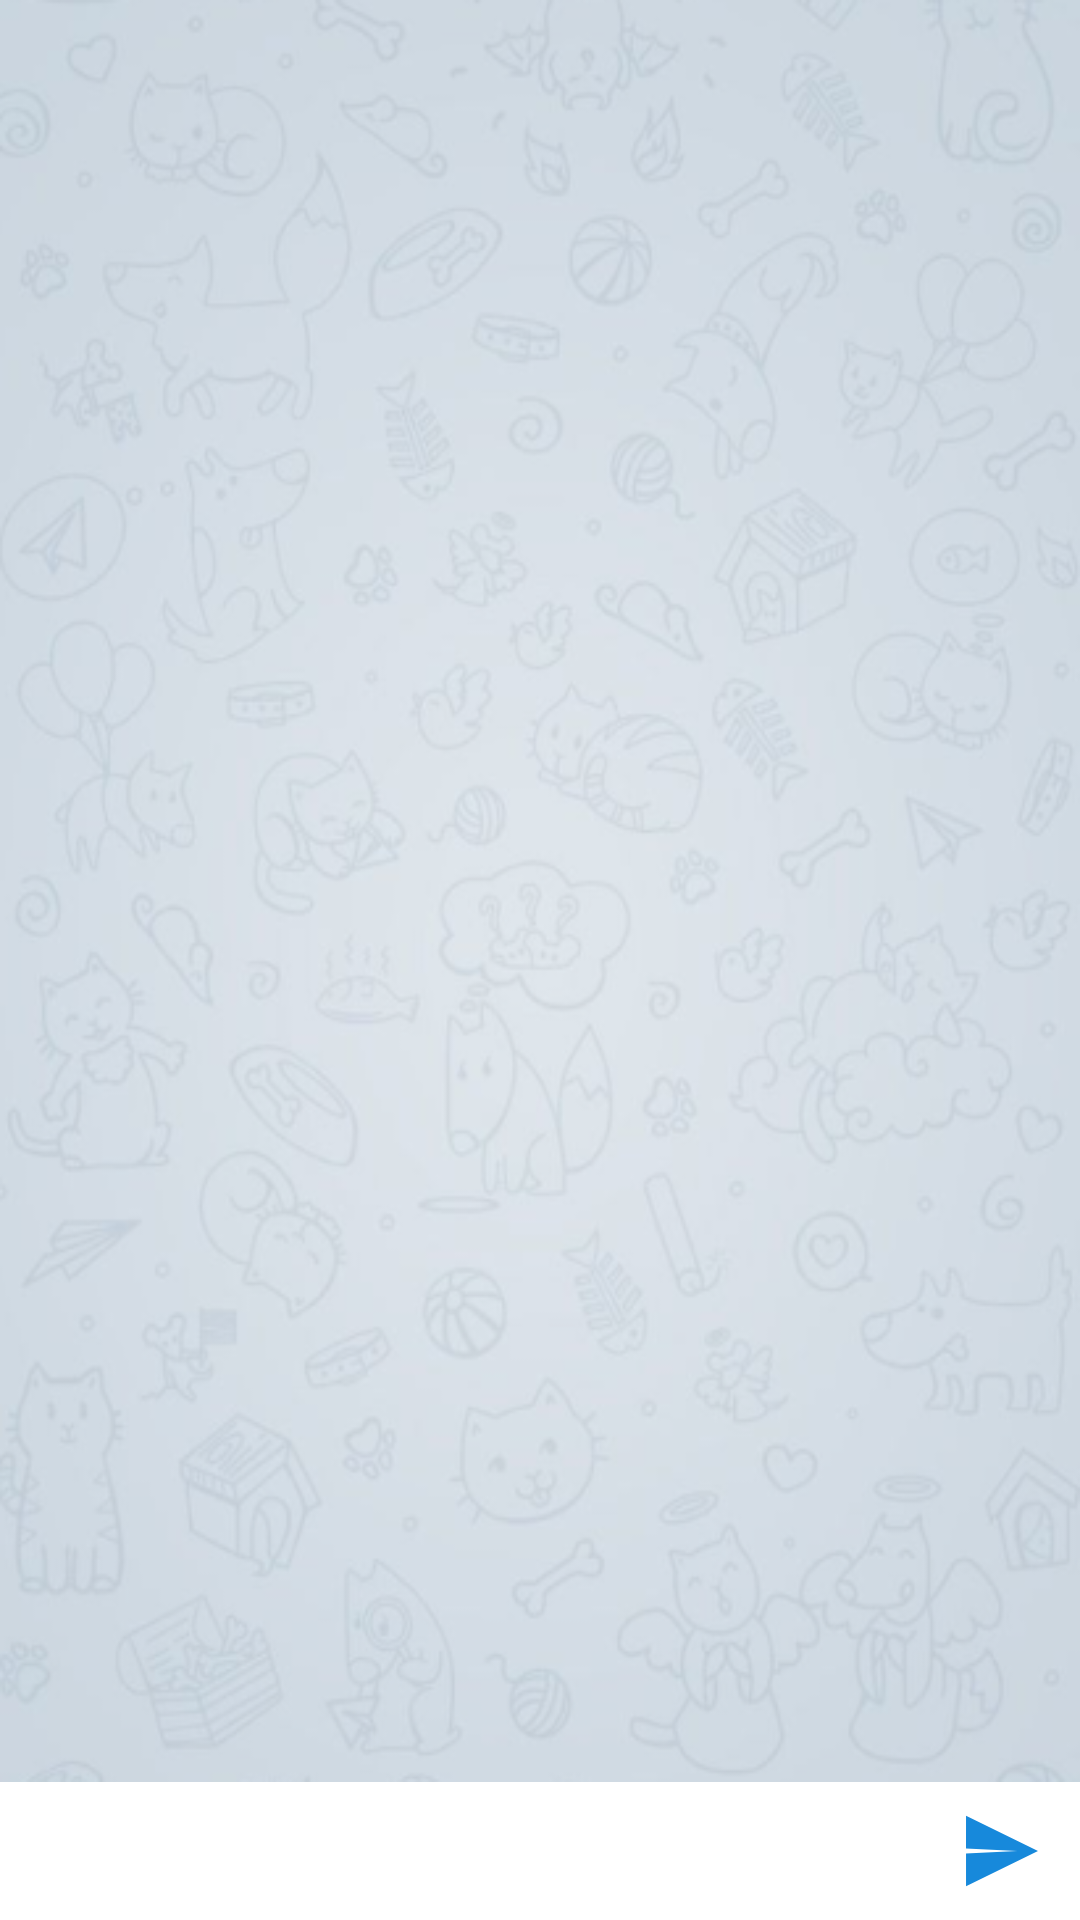

Icons on this 1080 × 1920 Android screen, each with its box as [x1,y1,x2,y2]:
send: [966,1816,1038,1886]
